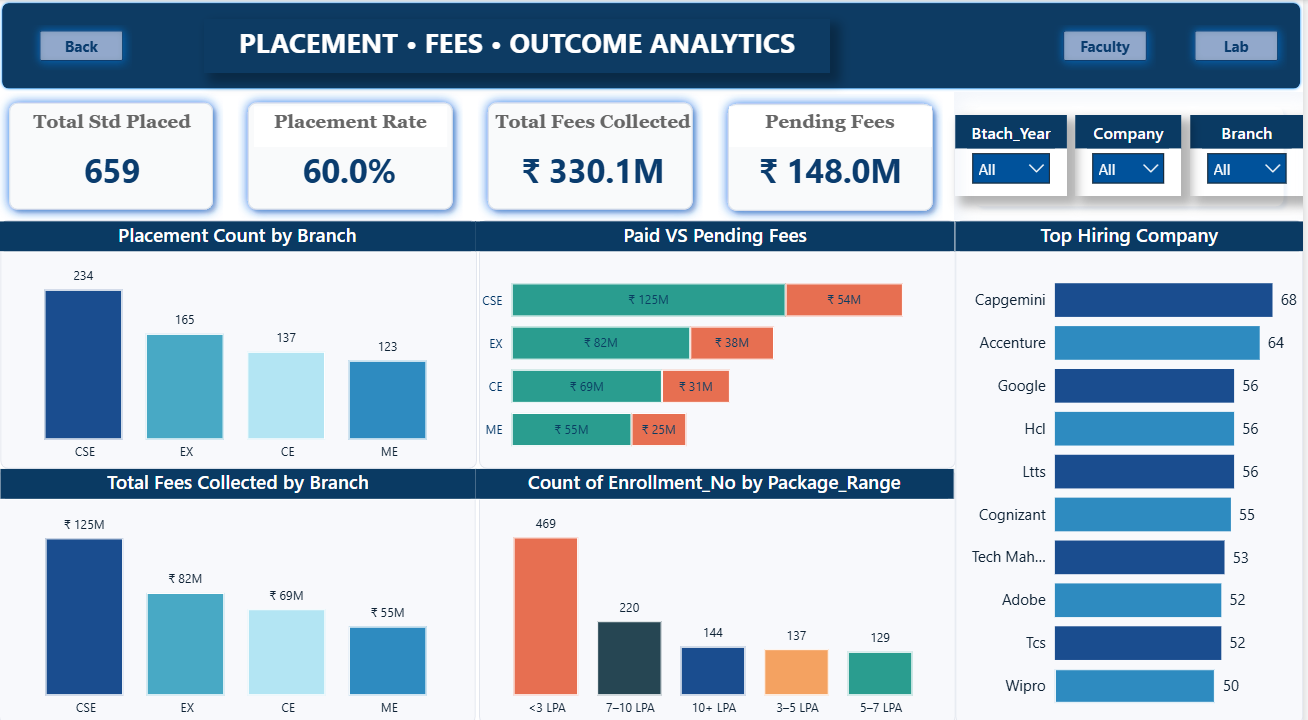

The dashboard page shown, as its layout file describes it:
{"tool":"powerbi","page":{"name":"placement","canvas":[1280,720],"ordinal":3},"visuals":[{"type":"shape","box":[0,0,1280.3,90],"z":0},{"type":"shape","box":[234.5,91,220.9,124.9],"z":1000},{"type":"shape","box":[0,91.4,220,125],"z":2000},{"type":"shape","box":[469.9,90.6,220.9,124.9],"z":3000},{"type":"shape","box":[705.3,91.9,220.9,124.9],"z":4000},{"type":"shape","box":[937.2,90.6,343.1,124.9],"z":5000},{"type":"actionButton","box":[1036,20.6,100.2,48],"z":7000},{"type":"actionButton","box":[1165,20.6,100.2,48],"z":8000},{"type":"actionButton","box":[30.2,20.6,100.2,48],"z":9000},{"type":"textbox","box":[201.7,17.8,614.8,53.5],"z":10000},{"type":"shape","box":[1.4,215.4,467.9,244.3],"z":11000},{"type":"shape","box":[470.7,215.4,467.9,244.3],"z":12000},{"type":"shape","box":[938.6,215.4,341.7,495.4],"z":13000},{"type":"shape","box":[0,459.7,467.9,251.1],"z":14000},{"type":"shape","box":[470.7,459.7,467.9,251.1],"z":15000},{"type":"card","fields":{"Values":["eng_placement_clean.Total Placed"]},"box":[37,144.1,148.2,48],"z":16000},{"type":"textbox","box":[17.8,104.3,185.2,39.8],"z":17000},{"type":"textbox","box":[249.7,104.3,189.4,39.8],"z":18000},{"type":"card","fields":{"Values":["eng_placement_clean.Placement Rate"]},"box":[271.7,144.1,145.5,48],"z":19000},{"type":"textbox","box":[476.2,104.3,214.1,39.8],"z":20000},{"type":"card","fields":{"Values":["eng_fees_clean.Total Fees Collected"]},"box":[495.4,144.1,174.3,48],"z":21000},{"type":"textbox","box":[716.3,104.3,199,39.8],"z":22000},{"type":"card","fields":{"Values":["eng_fees_clean.Total Pending Fees"]},"box":[734.1,144.1,164.7,48],"z":23000},{"type":"slicer","title":"Branch","fields":{"Values":["Eng_data_clean.Branch"]},"box":[1168.9,112.5,111.1,79.6],"z":24000},{"type":"slicer","title":"Btach_Year","fields":{"Values":["Eng_data_clean.Batch_Year"]},"box":[938.6,112.5,109.8,79.6],"z":25000},{"type":"slicer","title":"Company","fields":{"Values":["eng_placement_clean.Company"]},"box":[1056.6,112.5,104.3,79.6],"z":26000},{"type":"clusteredColumnChart","title":"Placement Count by Branch","fields":{"Y":["eng_placement_clean.Total Placed"],"Category":["Eng_data_clean.Branch"]},"box":[0,216.8,467.9,242.9],"z":27000},{"type":"clusteredBarChart","title":"Top Hiring Company","fields":{"Category":["eng_placement_clean.Company"],"Y":["eng_placement_clean.Total Placed"]},"box":[938.6,216.8,341.7,494],"z":28000},{"type":"clusteredColumnChart","fields":{"Category":["Eng_data_clean.Branch"],"Y":["eng_fees_clean.Total Fees Collected"]},"box":[1.4,459.7,466.6,251.1],"z":29000},{"type":"barChart","title":"Paid VS Pending Fees","fields":{"Category":["Eng_data_clean.Branch"],"Y":["eng_fees_clean.Total Fees Collected","eng_fees_clean.Total Pending Fees"]},"box":[467.9,216.8,470.7,242.9],"z":30000},{"type":"clusteredColumnChart","fields":{"Category":["eng_placement_clean.Package_Range"],"Y":["Count(eng_placement_clean.Enrollment_No)"]},"box":[467.9,459.7,469.3,251.1],"z":31000}]}

Visuals, with their boxes in screenshot pixels (x1, y1, x2, y2), scaled from the page's 1280x720 canvas onto the 1308x720 screenshot:
shape: (left=0, top=0, right=1307, bottom=90)
shape: (left=240, top=91, right=465, bottom=216)
shape: (left=0, top=91, right=225, bottom=216)
shape: (left=480, top=91, right=706, bottom=216)
shape: (left=721, top=92, right=946, bottom=217)
shape: (left=958, top=91, right=1307, bottom=216)
actionButton: (left=1059, top=21, right=1161, bottom=69)
actionButton: (left=1190, top=21, right=1293, bottom=69)
actionButton: (left=31, top=21, right=133, bottom=69)
textbox: (left=206, top=18, right=834, bottom=71)
shape: (left=1, top=215, right=480, bottom=460)
shape: (left=481, top=215, right=959, bottom=460)
shape: (left=959, top=215, right=1307, bottom=711)
shape: (left=0, top=460, right=478, bottom=711)
shape: (left=481, top=460, right=959, bottom=711)
card - eng_placement_clean.Total Placed: (left=38, top=144, right=189, bottom=192)
textbox: (left=18, top=104, right=207, bottom=144)
textbox: (left=255, top=104, right=449, bottom=144)
card - eng_placement_clean.Placement Rate: (left=278, top=144, right=426, bottom=192)
textbox: (left=487, top=104, right=705, bottom=144)
card - eng_fees_clean.Total Fees Collected: (left=506, top=144, right=684, bottom=192)
textbox: (left=732, top=104, right=935, bottom=144)
card - eng_fees_clean.Total Pending Fees: (left=750, top=144, right=918, bottom=192)
"Branch" slicer: (left=1194, top=112, right=1307, bottom=192)
"Btach_Year" slicer: (left=959, top=112, right=1071, bottom=192)
"Company" slicer: (left=1080, top=112, right=1186, bottom=192)
"Placement Count by Branch" clusteredColumnChart: (left=0, top=217, right=478, bottom=460)
"Top Hiring Company" clusteredBarChart: (left=959, top=217, right=1307, bottom=711)
clusteredColumnChart - Eng_data_clean.Branch x eng_fees_clean.Total Fees Collected: (left=1, top=460, right=478, bottom=711)
"Paid VS Pending Fees" barChart: (left=478, top=217, right=959, bottom=460)
clusteredColumnChart - eng_placement_clean.Package_Range x Count(eng_placement_clean.Enrollment_No): (left=478, top=460, right=958, bottom=711)
